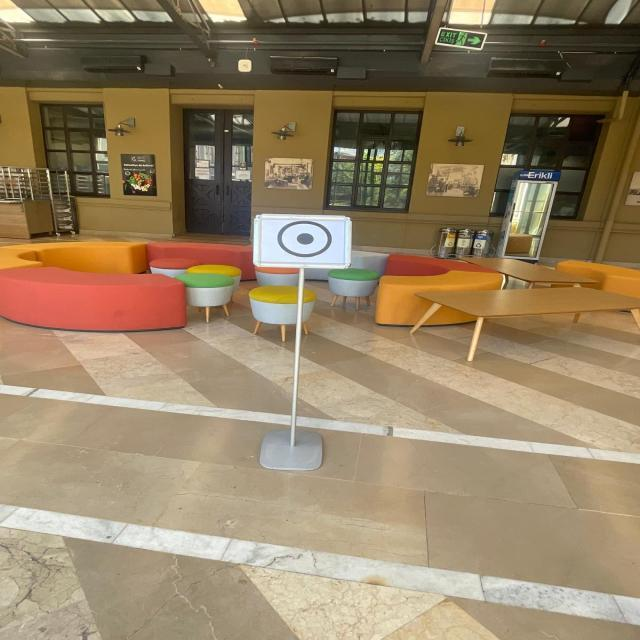Target: (240, 196, 368, 280)
inner: (291, 225, 318, 252)
